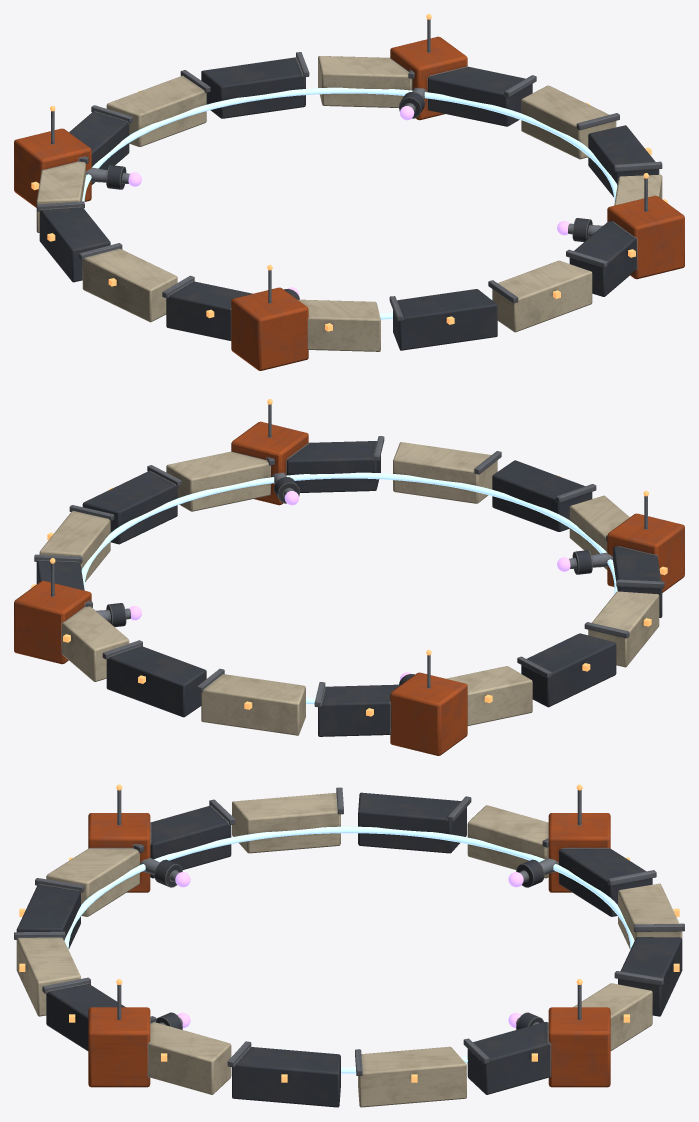
Rendered from jump_gate.glb.
3 renders of one model, top to bottom at view 1: azimuth 30°, elevation 25°; view 2: azimuth 150°, elevation 25°; view 3: azimuth 270°, elevation 25°, orthographic. The views are drawn at different scales.
Visible parts, largest first — view 1: jump_gate, Glow; view 2: jump_gate, Glow; view 3: jump_gate, Glow.
Part boxes in pixels (x1,y1,x2,y2): jump_gate: (14,19,684,370); Glow: (31,14,667,331); jump_gate: (14,404,684,755); Glow: (31,399,667,716); jump_gate: (14,787,684,1107); Glow: (19,784,679,1082).
Bounding box in the file's own units: 86.58 × 13.7 × 86.58.
4 materials, 1 textured.
